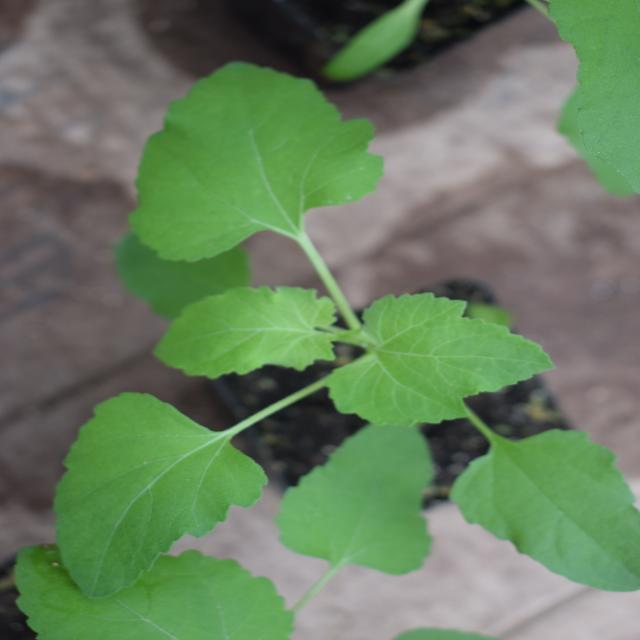cocklebur: (78, 114, 572, 580)
